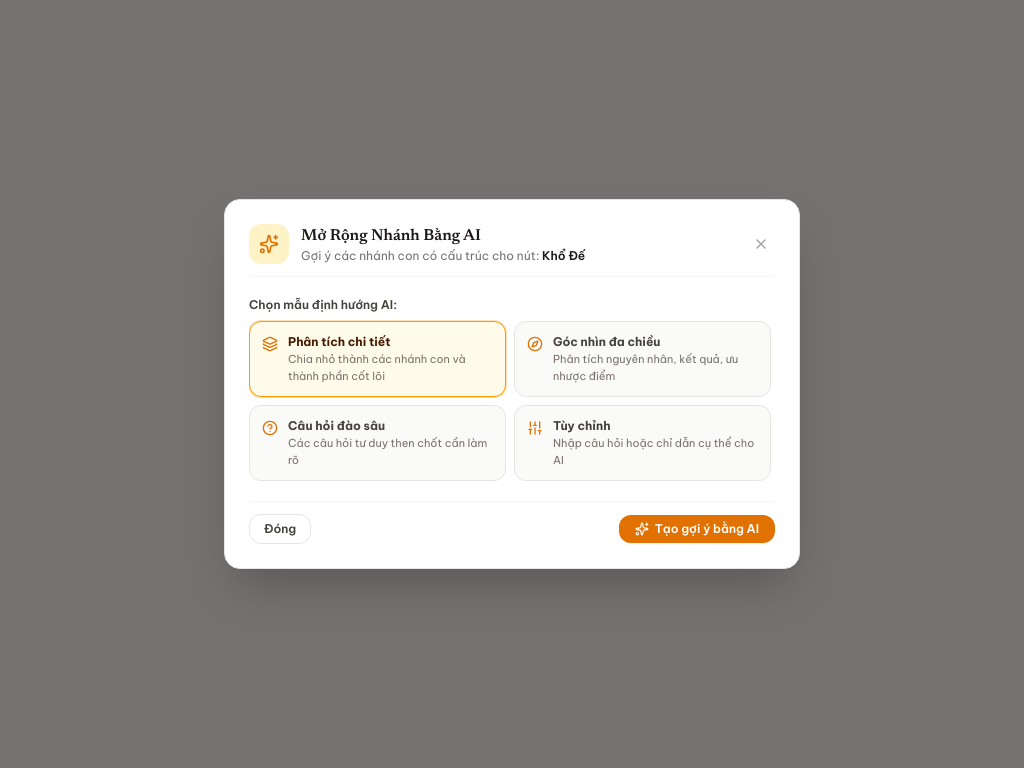
Test: Mind Map AI Node Expansion UI & Integration (Phase P3) › 2. MindMapAiExpansionModal UI Workflow › Scenario 2.4: does NOT silently fallback to mock when aiClient is omitted, displays clear error message
Click Generate button
Click the button with test id "btn-submit-ai-generate" at [697, 529], box [619,515,775,543]
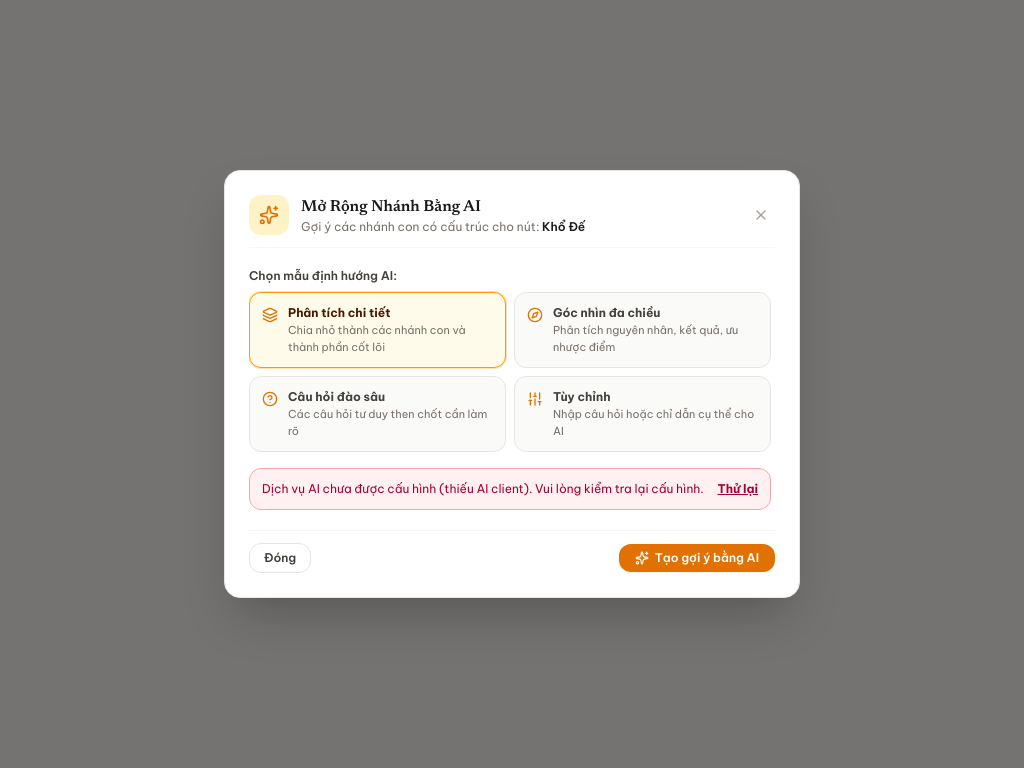
Result: the text "Dịch vụ AI chưa được cấu hình" is shown at [262,481,704,496]
